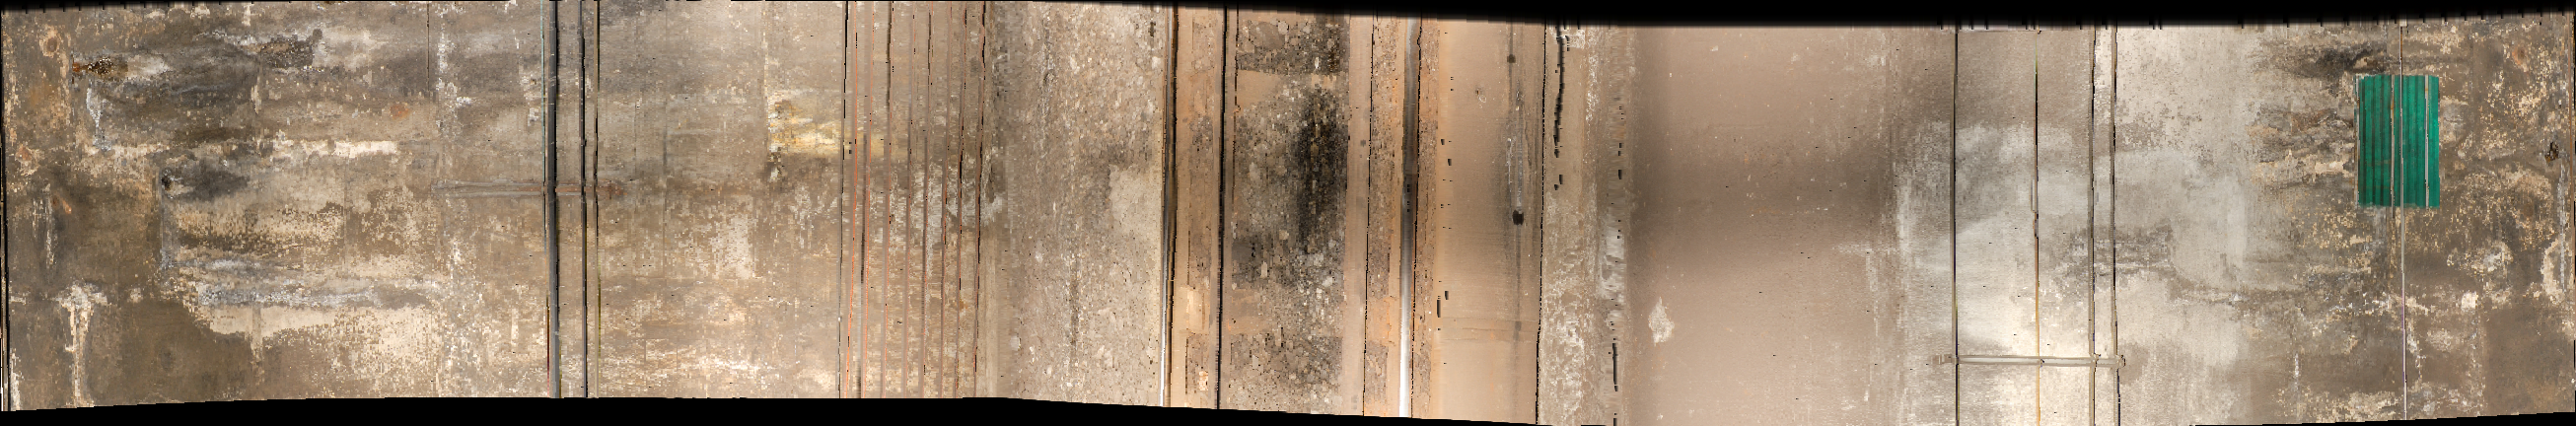green cables: (2354, 76, 2438, 219)
pipes: (1940, 30, 2131, 426), (831, 5, 996, 426), (544, 5, 611, 419)
tracks: (1163, 12, 1451, 426)
